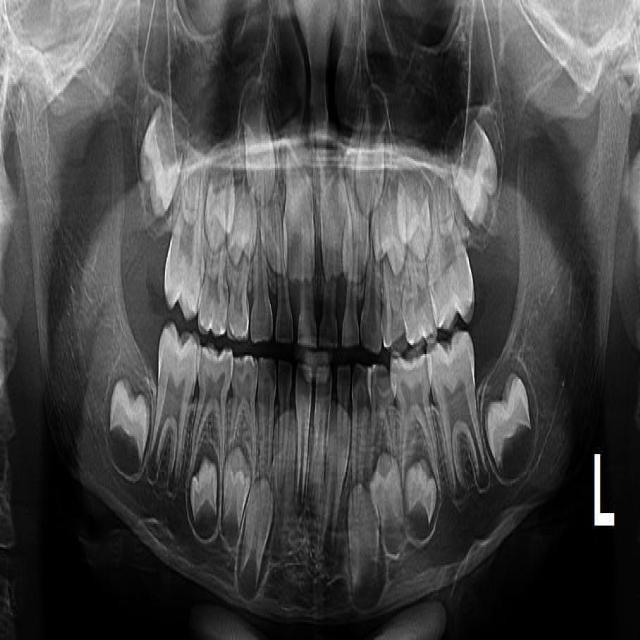Sterngold Implant: (372, 363, 392, 395), (389, 318, 405, 348), (233, 358, 246, 376), (244, 318, 249, 333)
